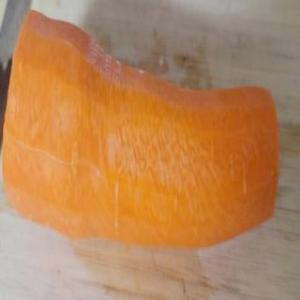carrot: (3, 8, 281, 256)
